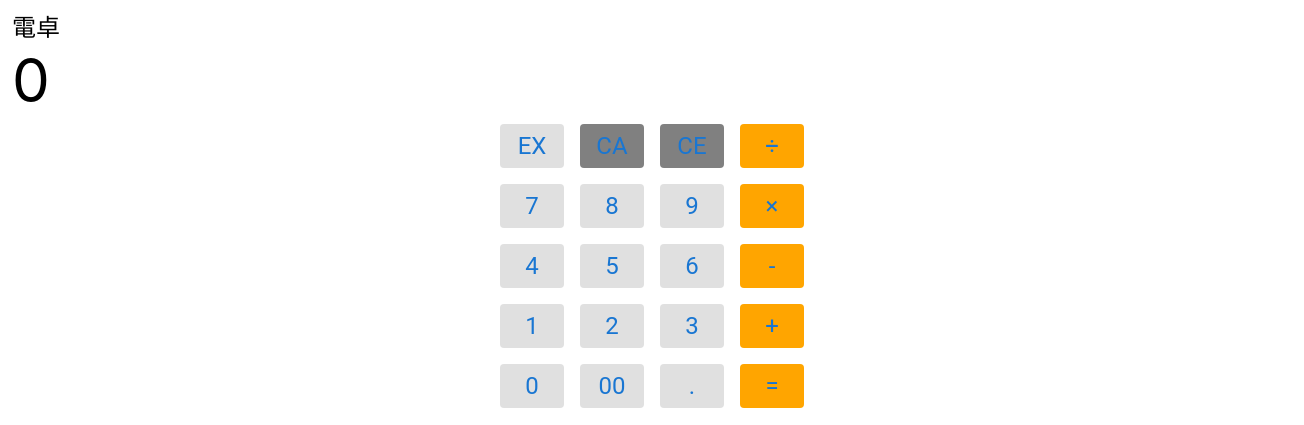
handleNumberClick event › 足し算　1+2=3"
This screenshot has width=1304, height=425.
What coordinates should you click on to do the following:
click the button "1"
I would click on:
 (532, 326)
Its box is [500, 304, 564, 348].
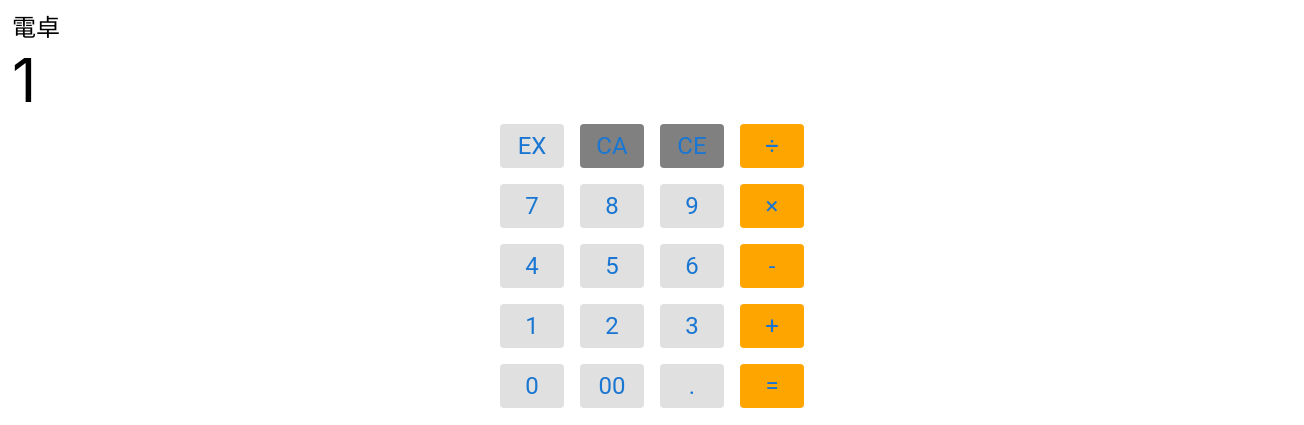
What coordinates should you click on to do the following:
click the button "+"
I would click on:
 (772, 326)
Its box is [740, 304, 804, 348].
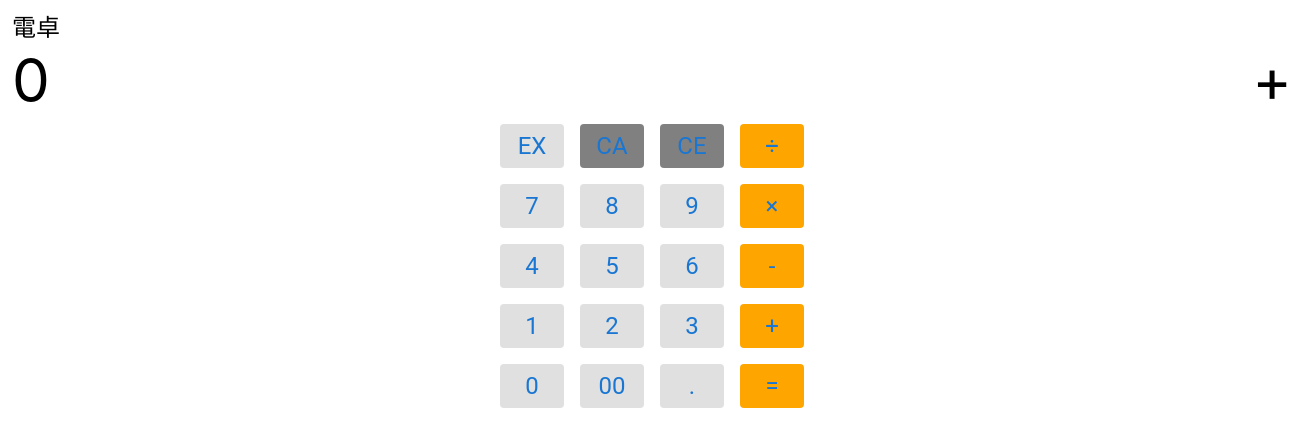
What coordinates should you click on to do the following:
click the button "2"
I would click on:
 (612, 326)
Its box is [580, 304, 644, 348].
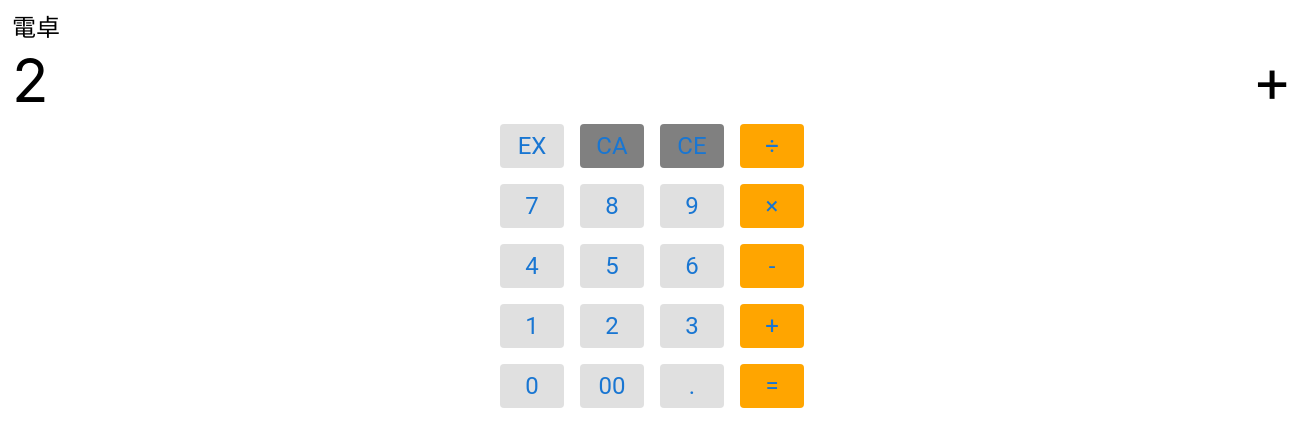
What coordinates should you click on to do the following:
click the button "="
I would click on:
 (772, 386)
Its box is [740, 364, 804, 408].
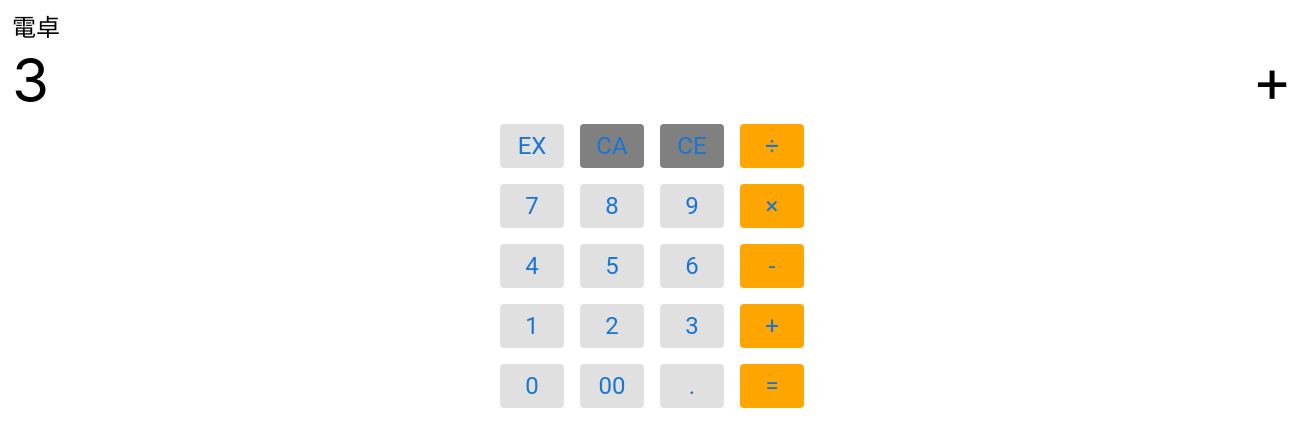
Expected: the text with test id "display" reads "3", [12, 44, 49, 116]
